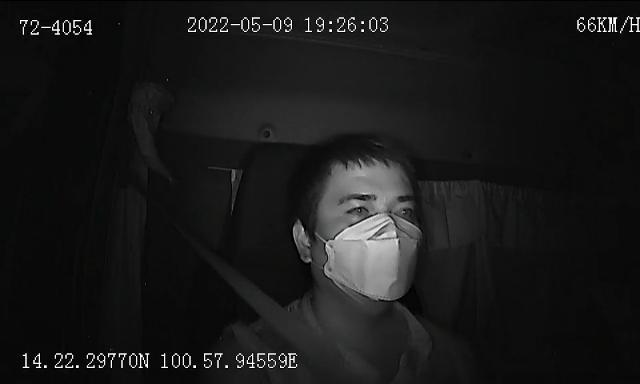SafeDriving: (337, 196, 378, 219), (390, 198, 420, 219)
Seatbelt: (182, 230, 364, 384)
